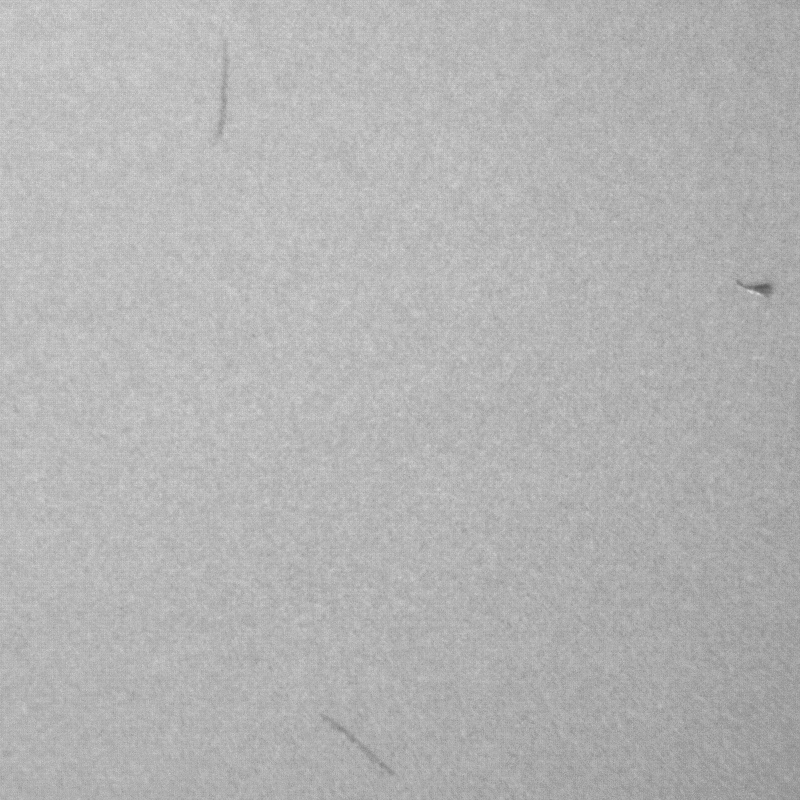defect: (325, 713, 395, 776), (214, 41, 232, 143), (733, 272, 773, 301)
